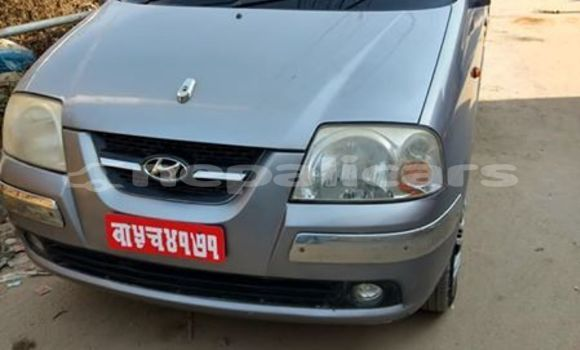number plate: (105, 214, 227, 265)
